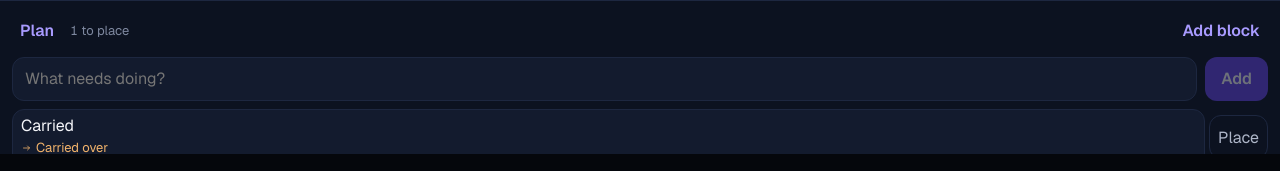
Test: shows a plain error and keeps the title when adding fails
Type "New task" into the field named "Brain dump" at {"x": 605, "y": 79}, box [12,57,1197,101]
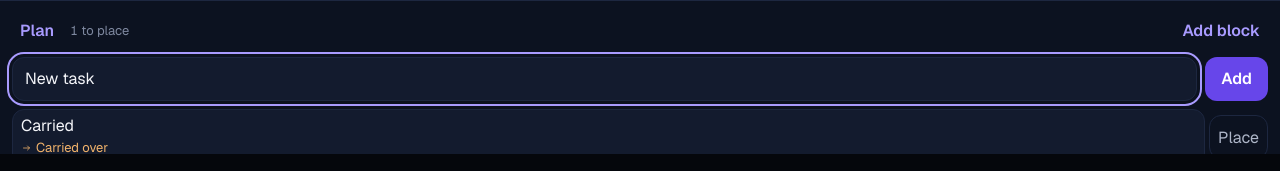
Click the button "Add" at {"x": 1237, "y": 79}, box [1205,57,1268,101]
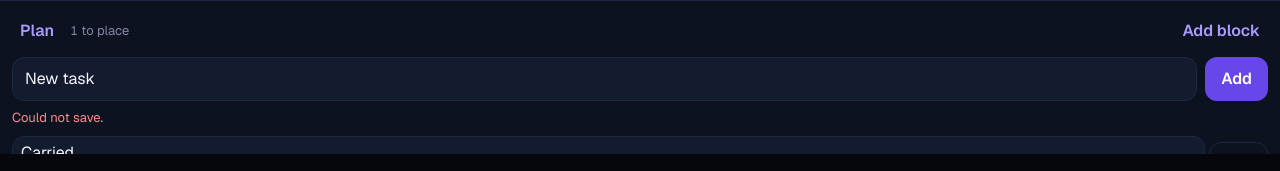
Expected: the message reads "Could not save.", [12,109,103,126]
